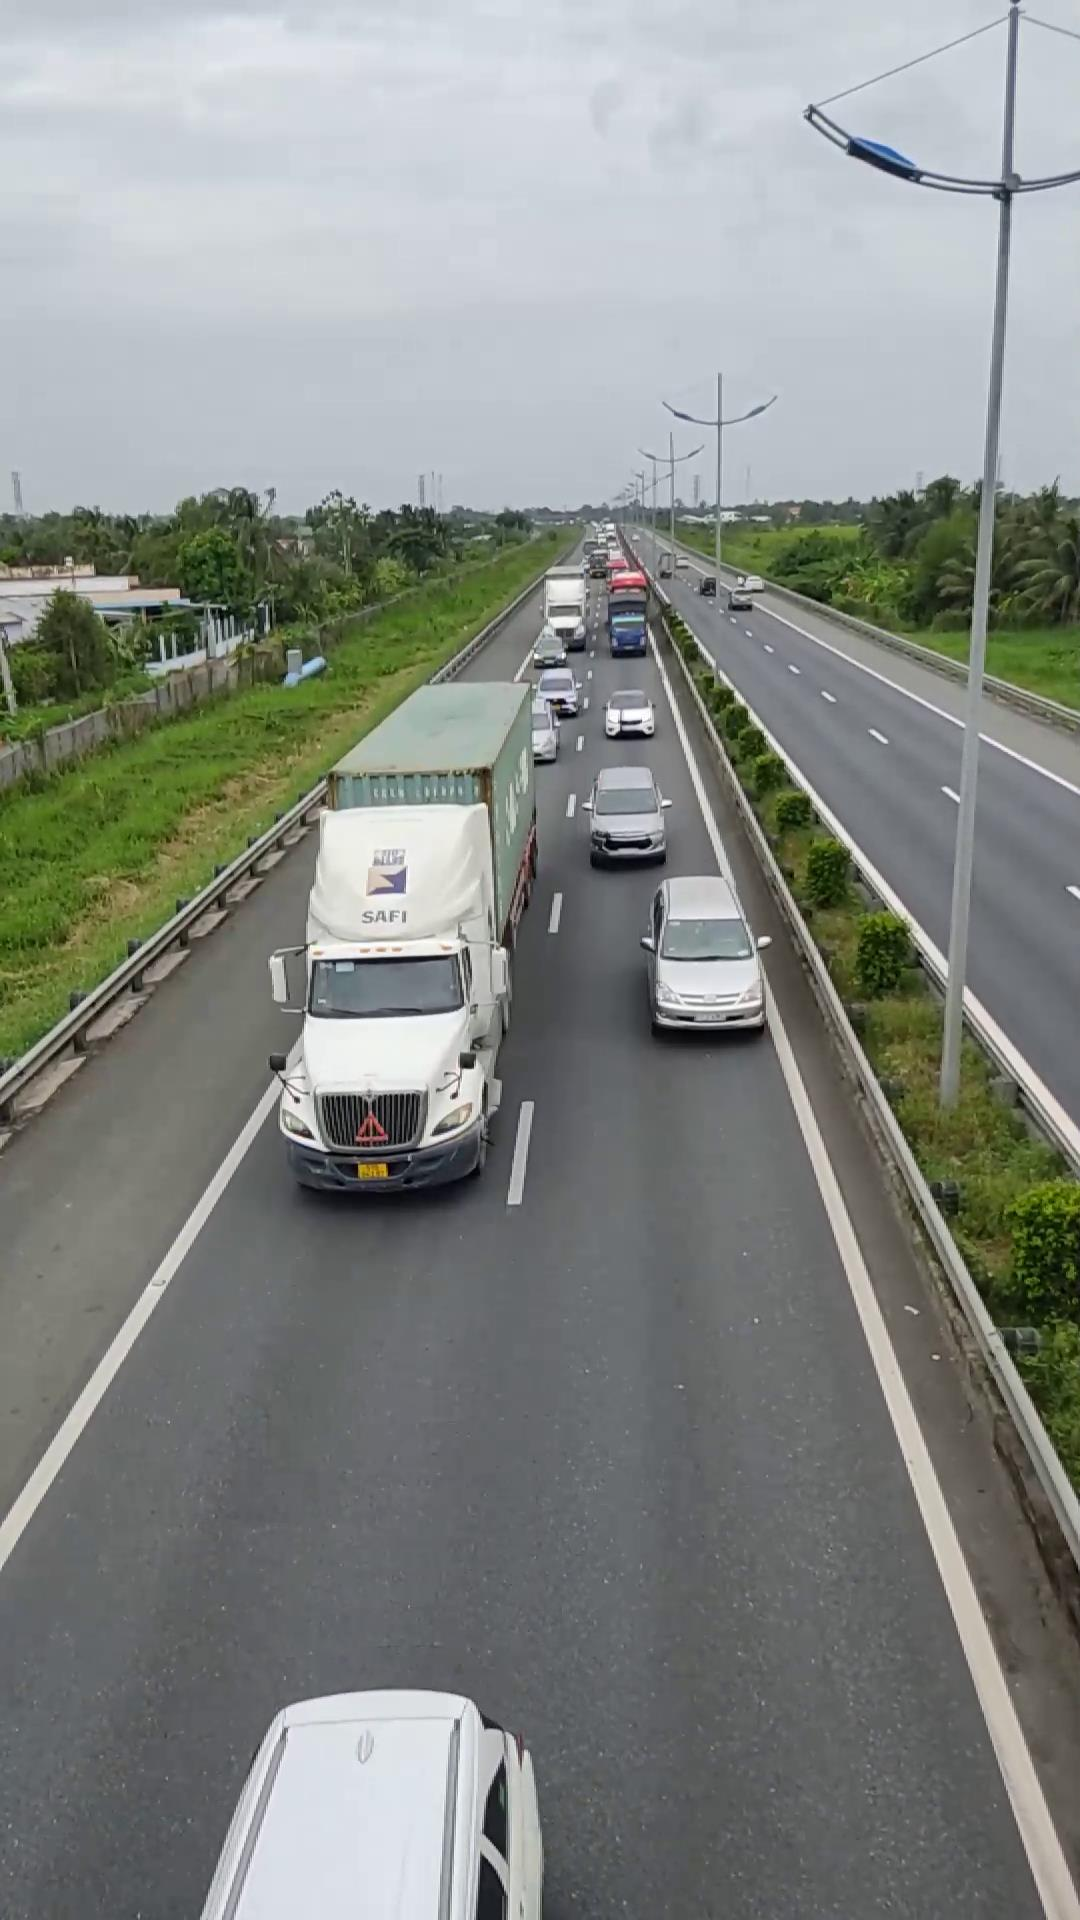car: (189, 1689, 547, 1919), (640, 873, 767, 1036), (582, 765, 669, 866)
container: (276, 673, 537, 1197)
